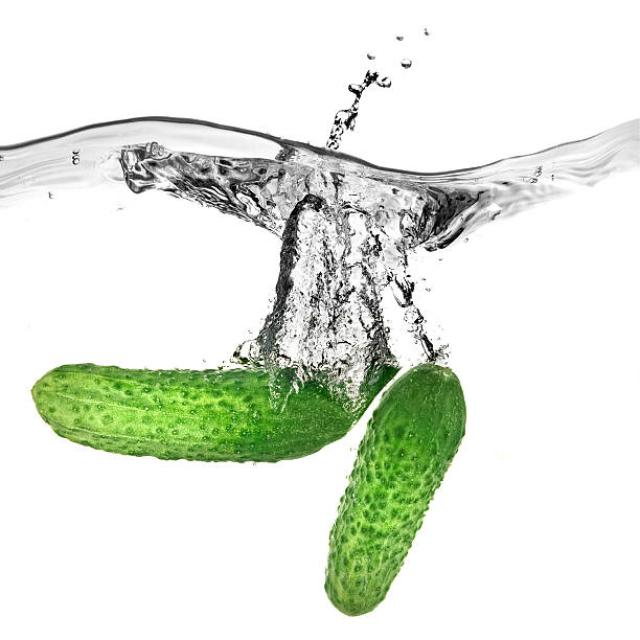cucumber: (321, 361, 467, 620), (32, 360, 354, 462)
